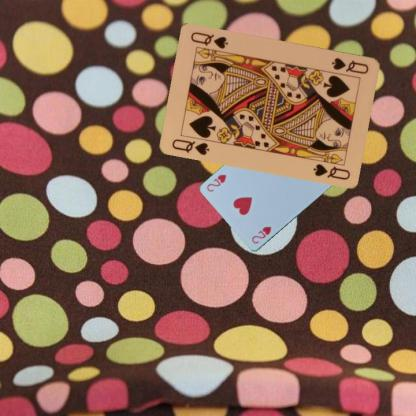2h: (249, 224, 273, 245)
Qs: (170, 135, 211, 156), (329, 55, 370, 75)
